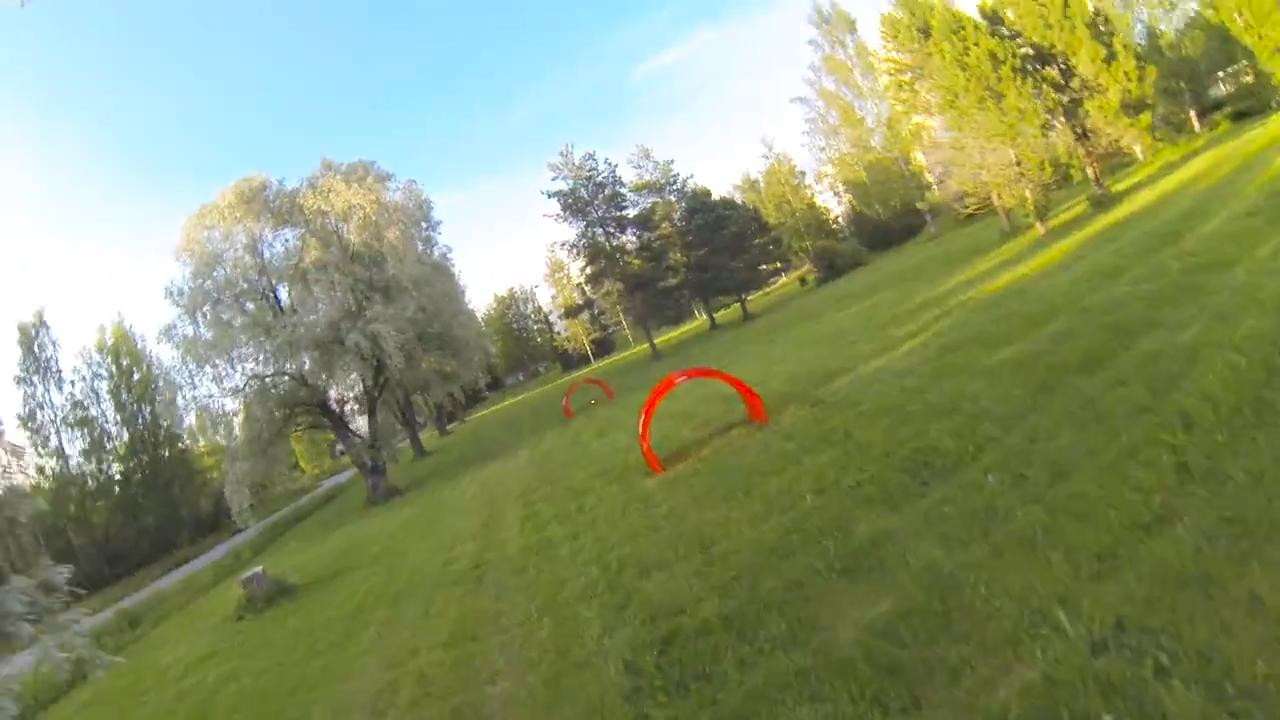gate: (633, 365, 767, 477)
